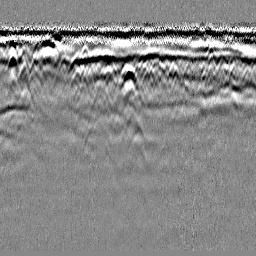cavity: (114, 62, 146, 105)
